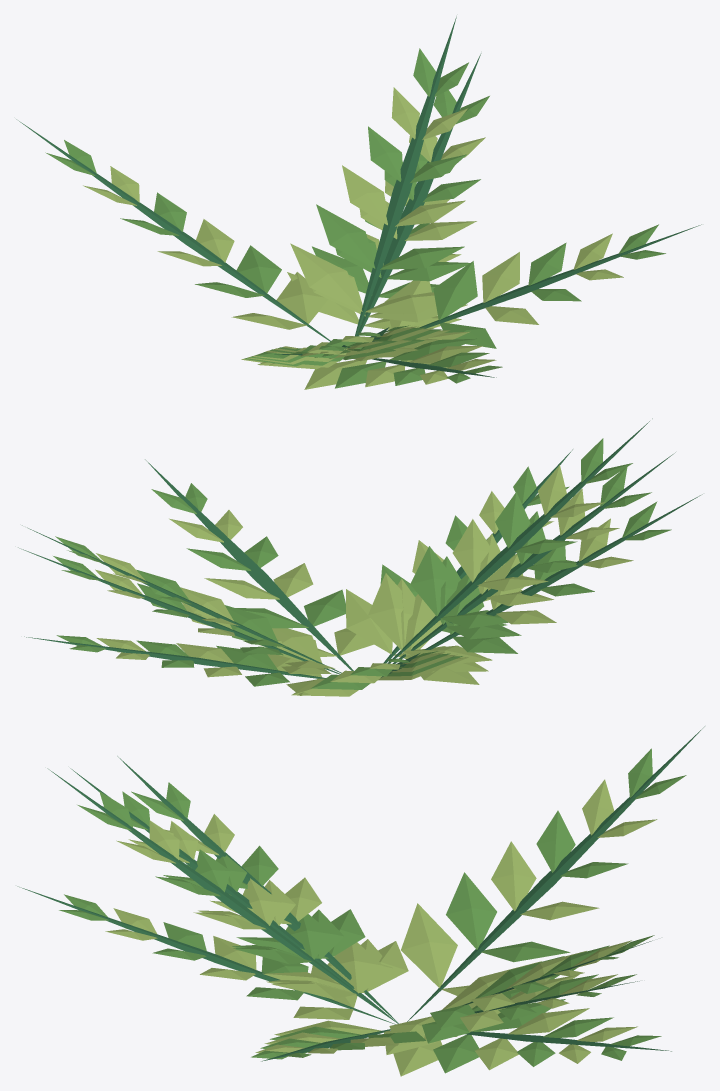
Rendered from fern_cluster.glb.
3 renders of one model, top to bottom at view 1: azimuth 30°, elevation 25°; view 2: azimuth 150°, elevation 25°; view 3: azimuth 270°, elevation 25°, orthographic. The views are drawn at different scales.
Parts seen in each view (by area): view 1: fern_cluster; view 2: fern_cluster; view 3: fern_cluster.
Boxes of the visible parts, left/top/right/bottom form: fern_cluster: left=16, top=16, right=701, bottom=389; fern_cluster: left=18, top=418, right=702, bottom=696; fern_cluster: left=17, top=726, right=704, bottom=1076.
Size of the model in its own units: 1.61 by 0.5996 by 1.77.
